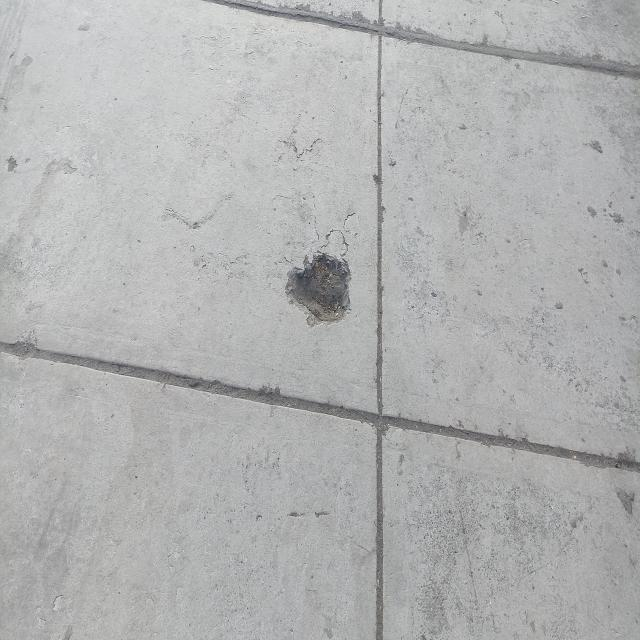hole: (284, 248, 354, 330)
